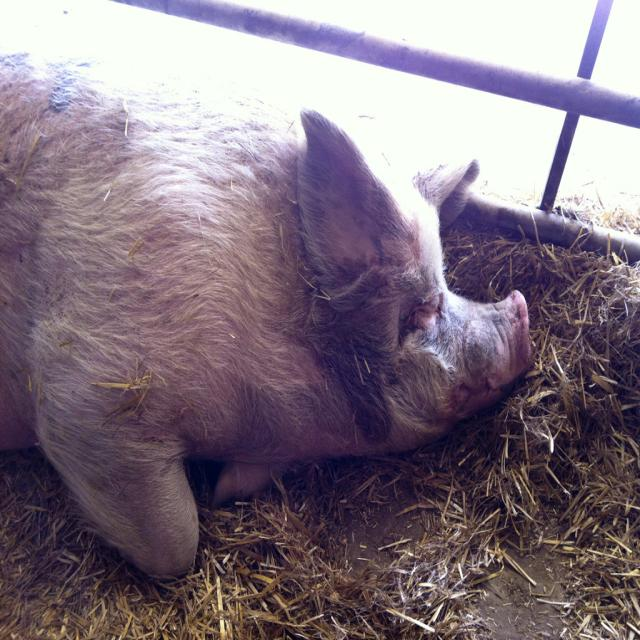Pig: (0, 52, 531, 581)
